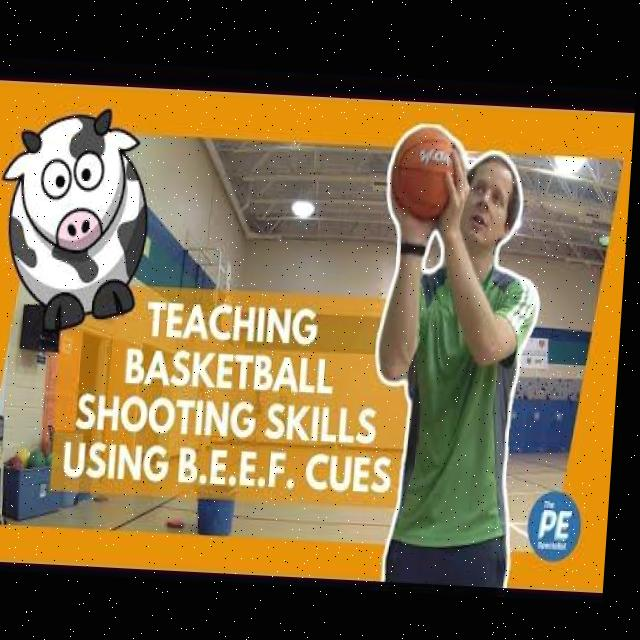basketball: (388, 126, 468, 224), (28, 447, 47, 468), (14, 447, 31, 468), (46, 452, 62, 468), (8, 457, 24, 470)
